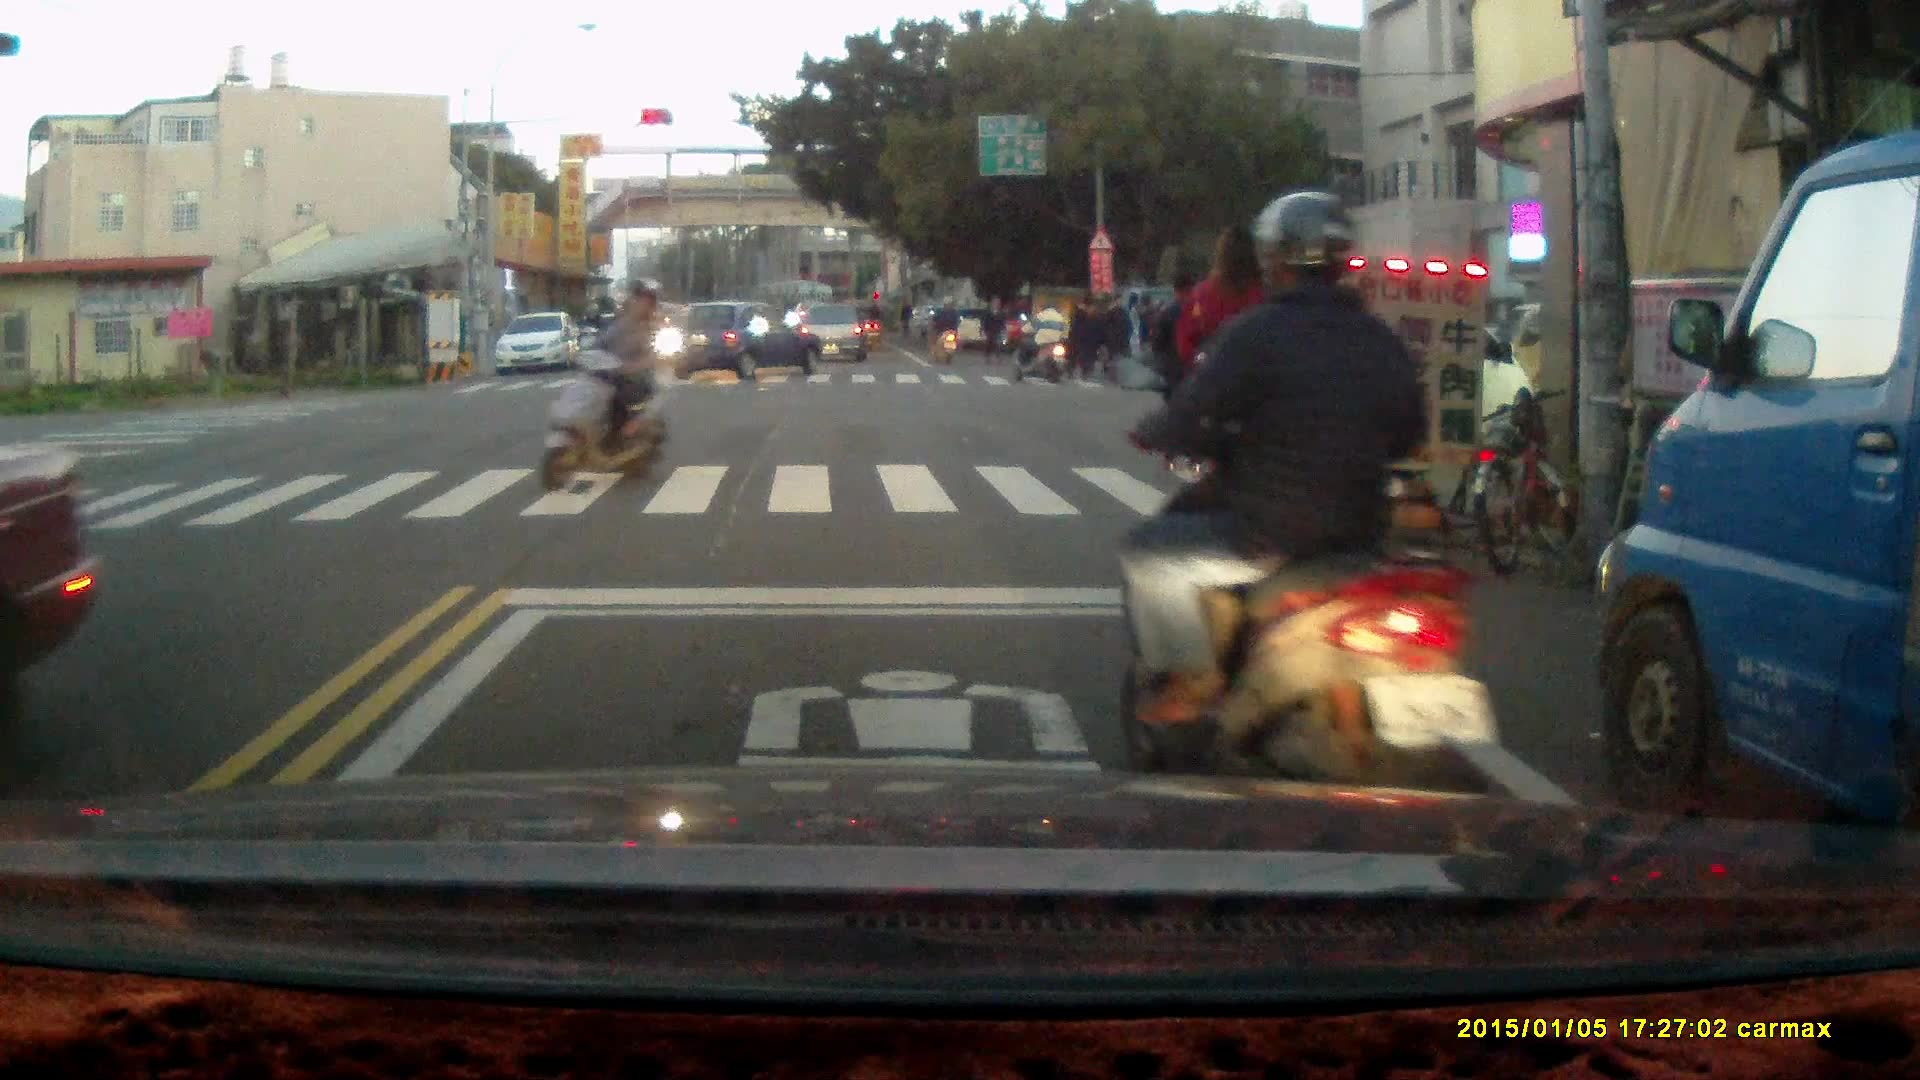pedestrian: (1175, 219, 1292, 568), (1147, 263, 1230, 480), (1099, 290, 1132, 384), (1067, 296, 1092, 376), (980, 292, 1004, 367)
rider: (1108, 191, 1491, 866), (538, 279, 675, 496), (1013, 295, 1069, 382), (928, 293, 960, 367), (575, 302, 607, 370)
vehicle: (1598, 132, 1920, 882), (1233, 296, 1533, 459), (1, 428, 105, 705), (666, 303, 822, 385), (498, 313, 586, 377), (795, 302, 874, 365)
